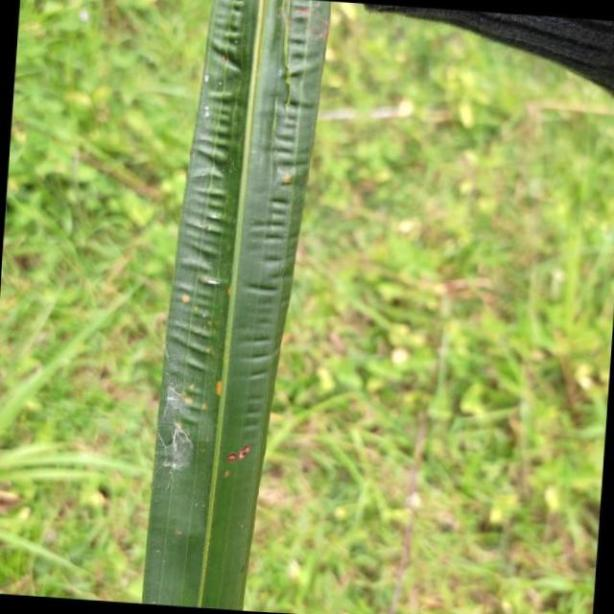Boron: (140, 0, 332, 614)
